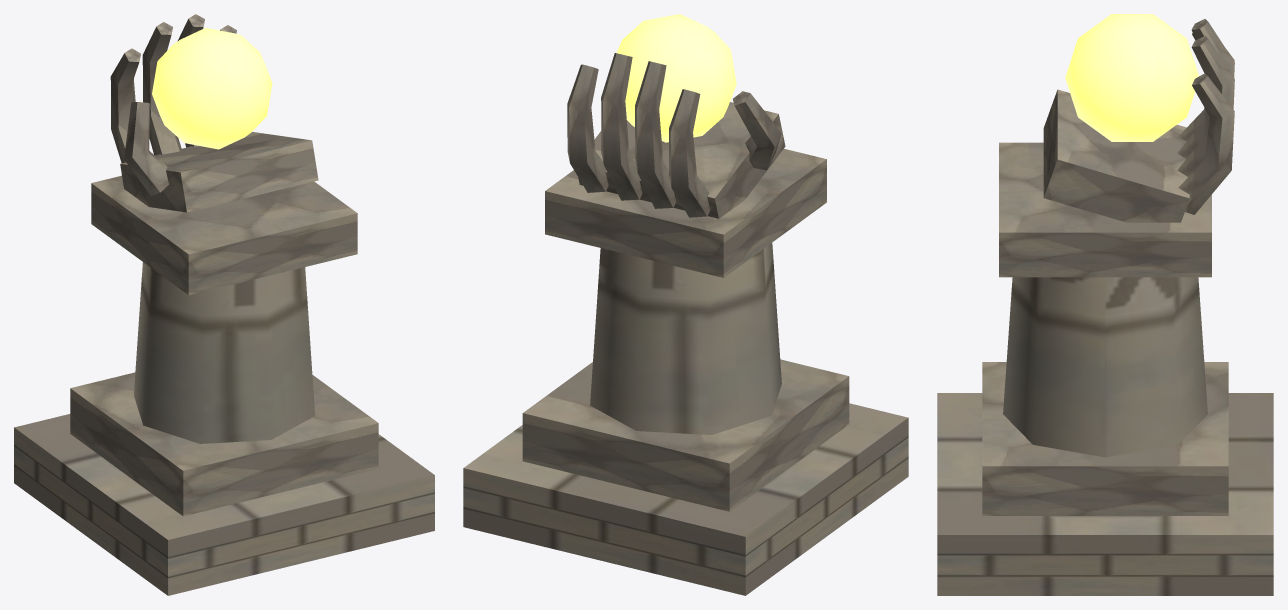
Rendered from star_shrine.glb.
3 renders of one model, left to right at view 1: azimuth 30°, elevation 25°; view 2: azimuth 150°, elevation 25°; view 3: azimuth 270°, elevation 25°, orthographic. The views are drawn at different scales.
Visible parts, largest first — view 1: star_shrine, Pearl; view 2: star_shrine, Pearl; view 3: star_shrine, Pearl.
Part boxes in pixels (box(x1,y1,x2,y2)): star_shrine: box(14, 14, 434, 595); Pearl: box(152, 28, 272, 149); star_shrine: box(463, 53, 908, 595); Pearl: box(616, 14, 736, 142); star_shrine: box(937, 19, 1273, 595); Pearl: box(1065, 14, 1198, 141).
Size of the model in its own units: 1.5 by 2.5 by 1.5.
2 materials, 2 textured.
